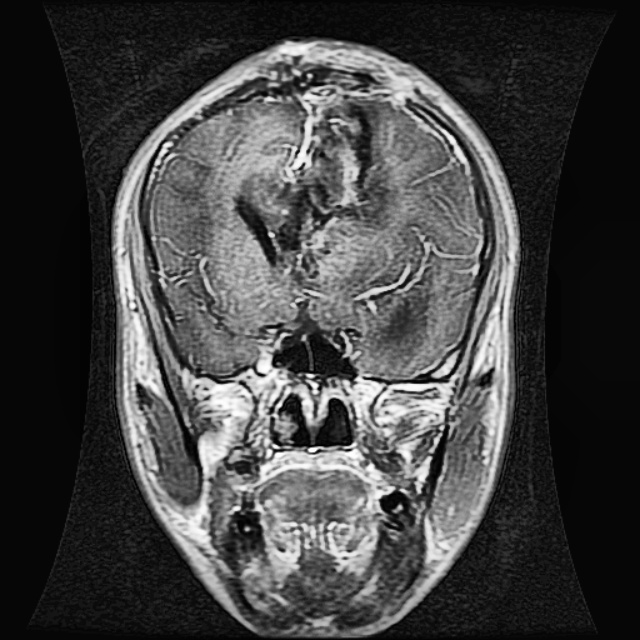Meningioma: (233, 98, 379, 265)
